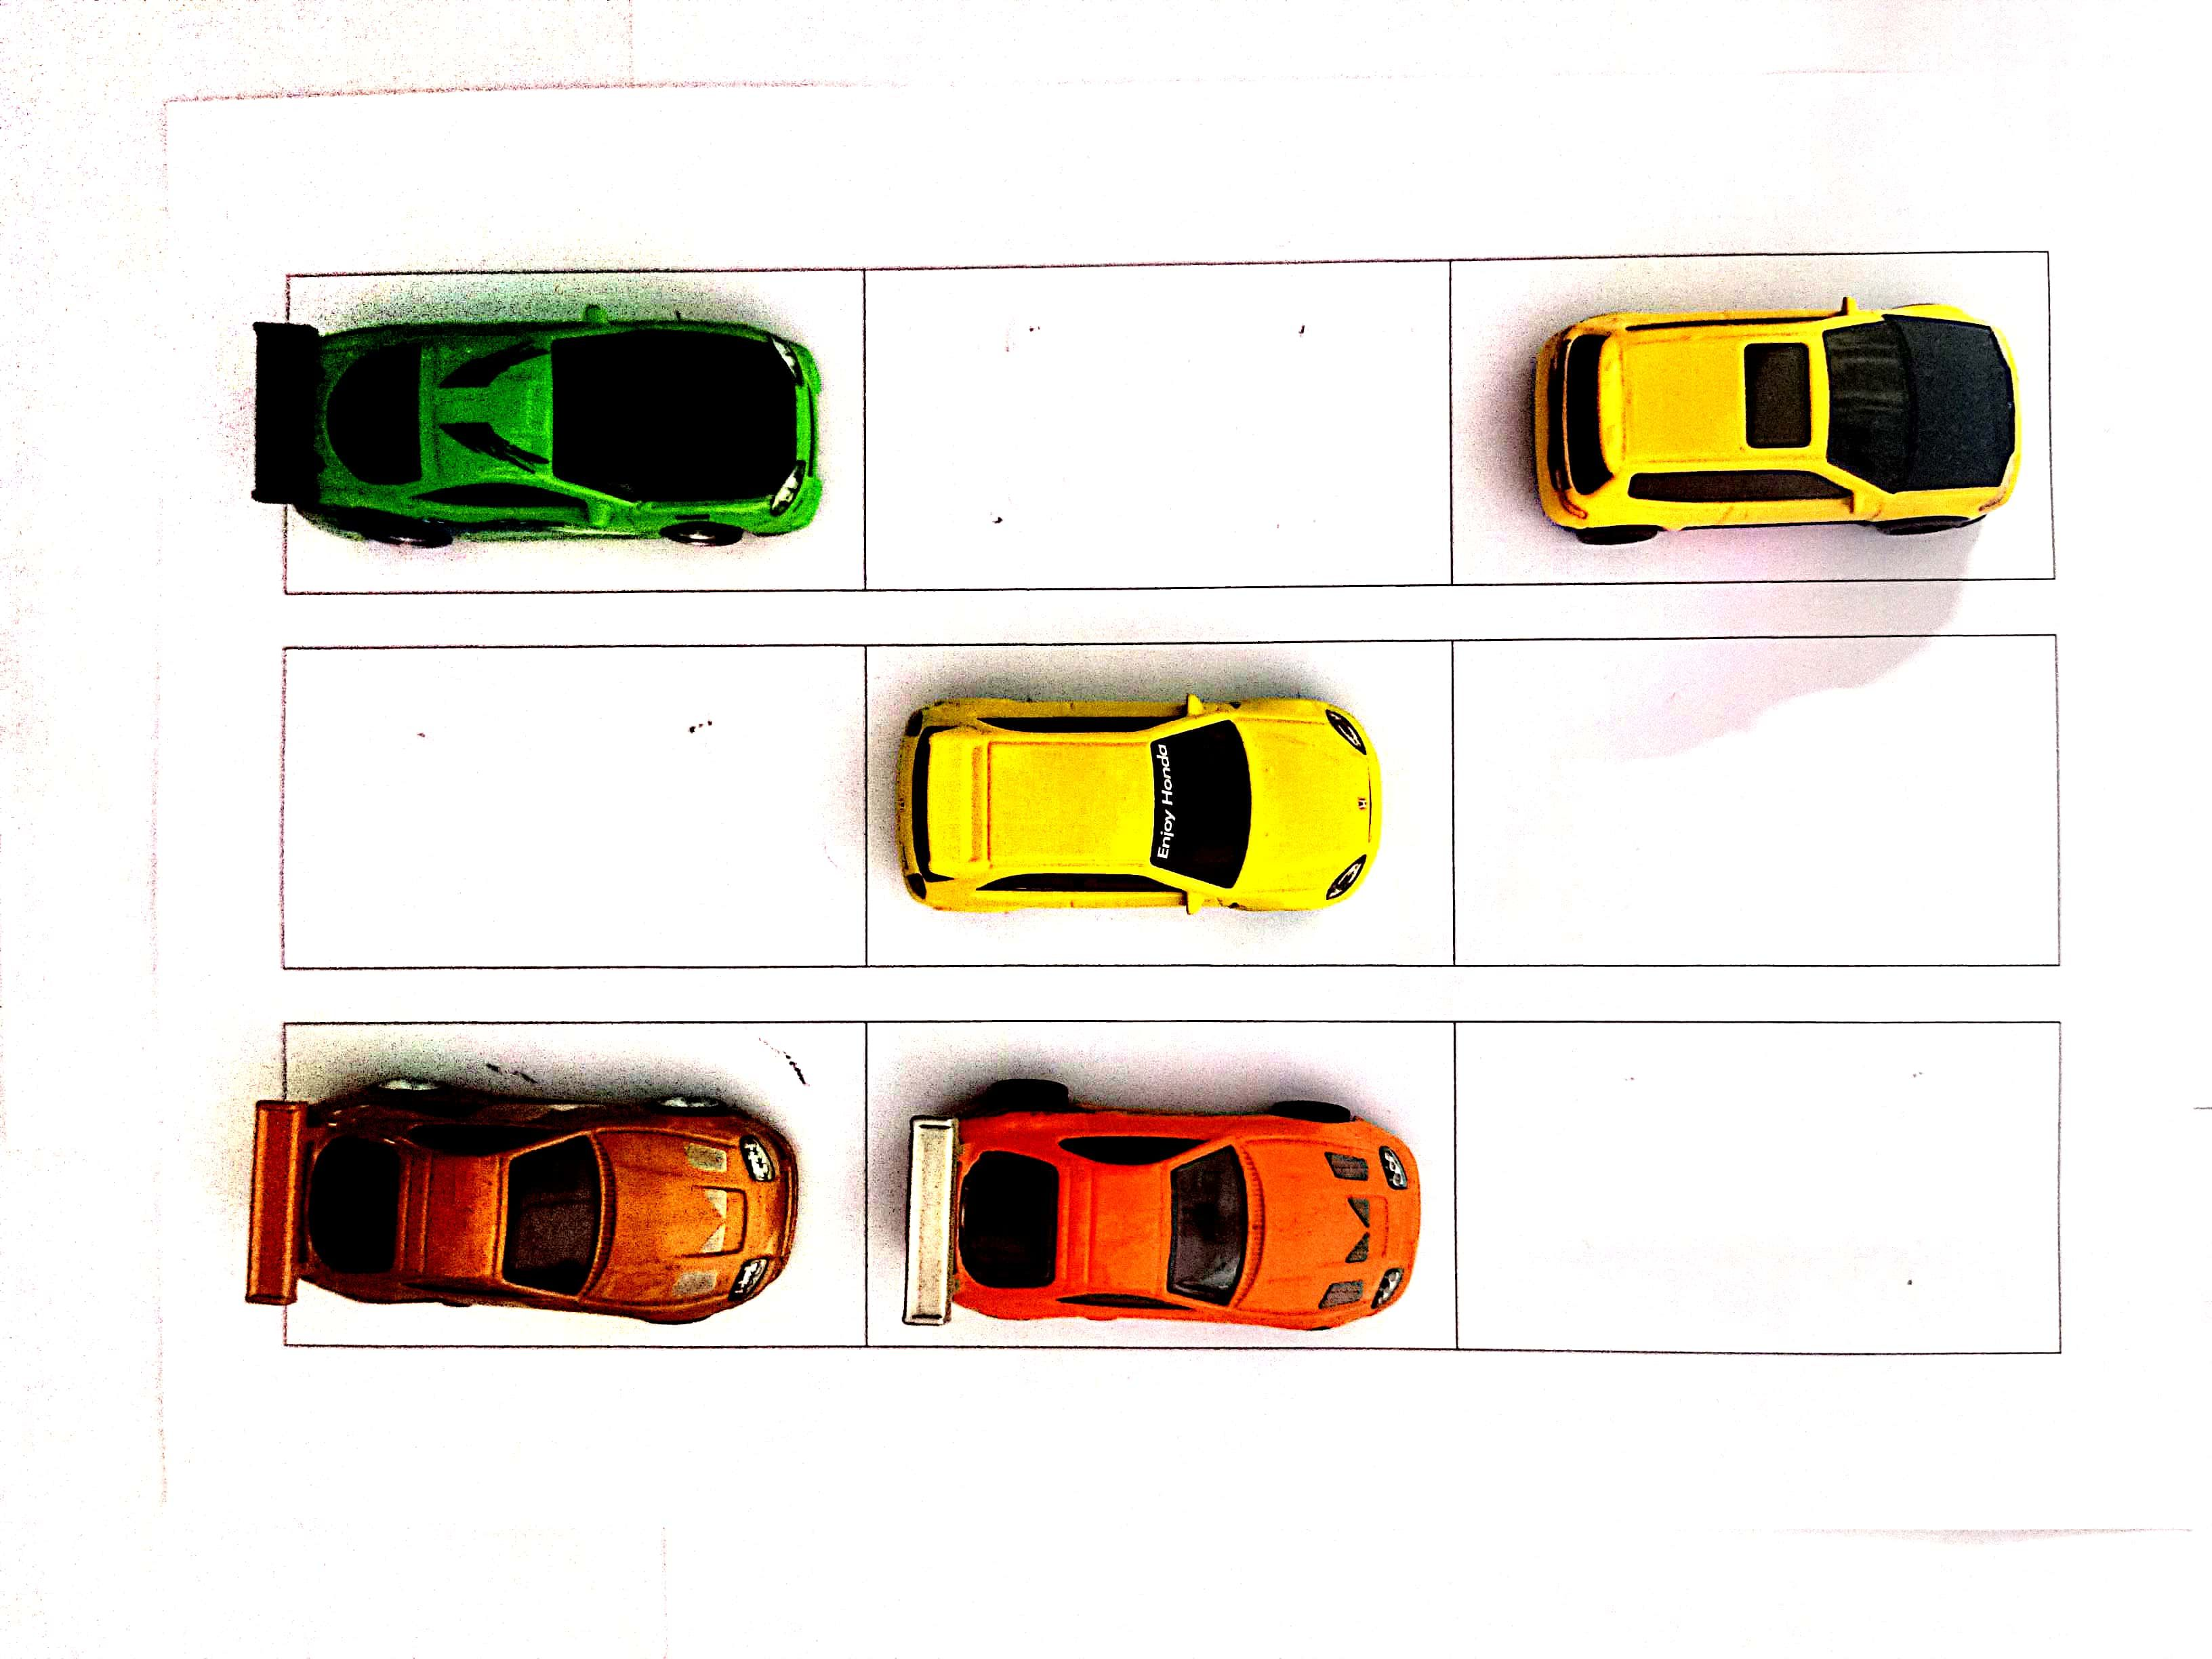Busy: (1449, 254, 2045, 580), (869, 641, 1446, 967), (287, 270, 871, 589), (866, 1023, 1446, 1342), (291, 1026, 860, 1342)
Free: (1451, 641, 2054, 958), (1458, 1026, 2055, 1345), (287, 650, 860, 962), (878, 263, 1440, 580)
